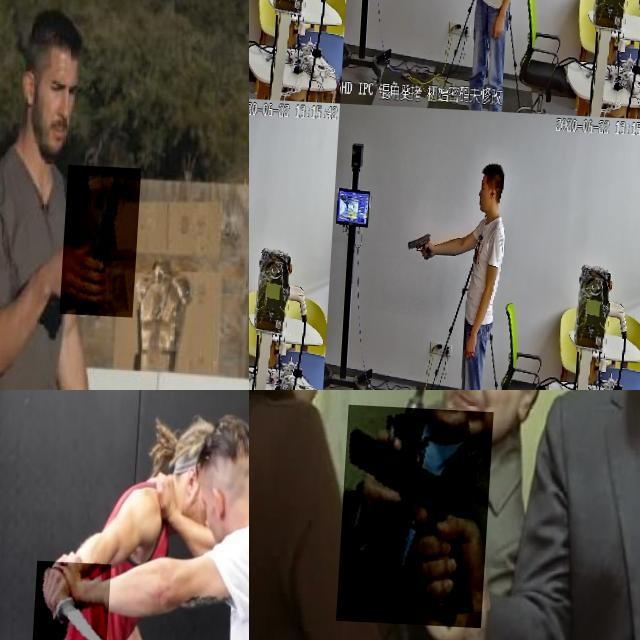-: (64, 162, 144, 314), (34, 559, 113, 640)
gun-knife-thesis - v11 Yolov5 augmented: (343, 402, 498, 624), (408, 221, 439, 251), (249, 133, 260, 175), (438, 0, 462, 17), (249, 0, 262, 17)
